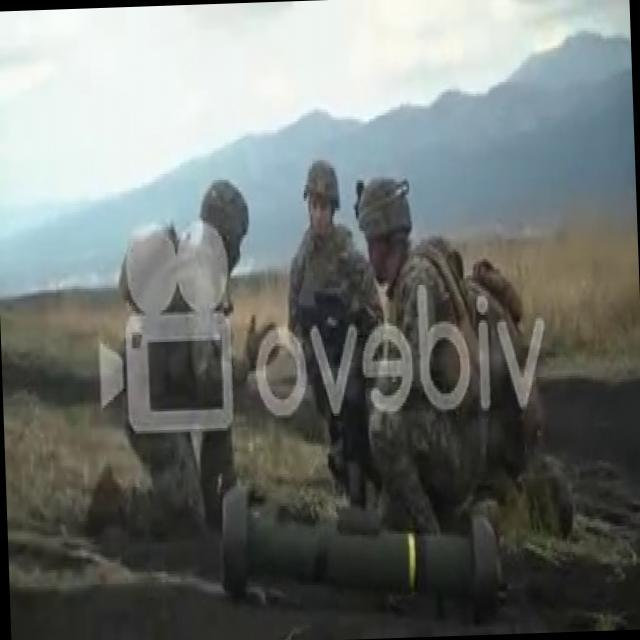rocket: (220, 477, 502, 628)
